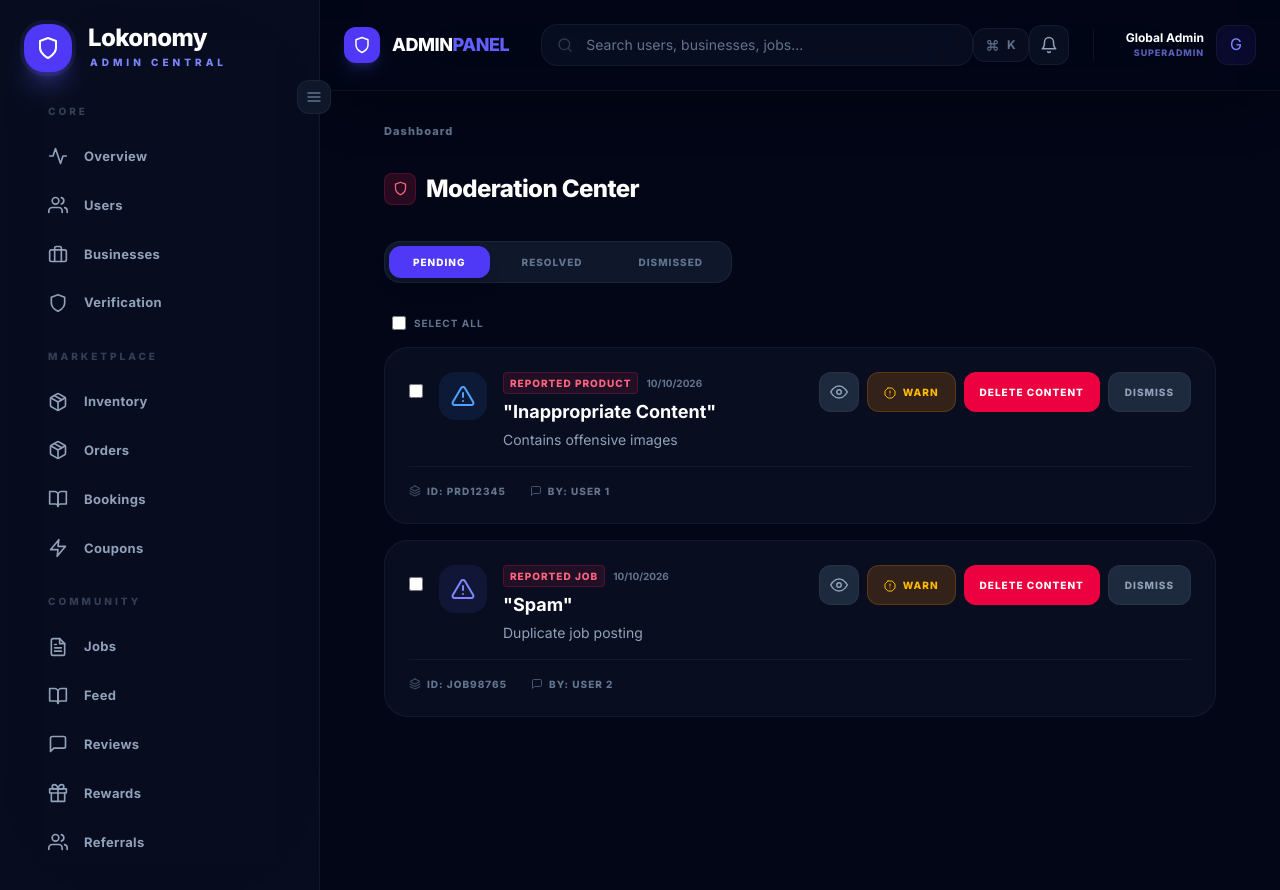
AdminModeration Page › opens and loads content preview
The width and height of the screenshot is (1280, 890).
Expected: the heading "\"Inappropriate Content\"" is shown, [503,398,716,426]
Click the button named "Preview content" next to "Inappropriate Content". click: coordinates (839, 392)
box: [819,372,859,412]
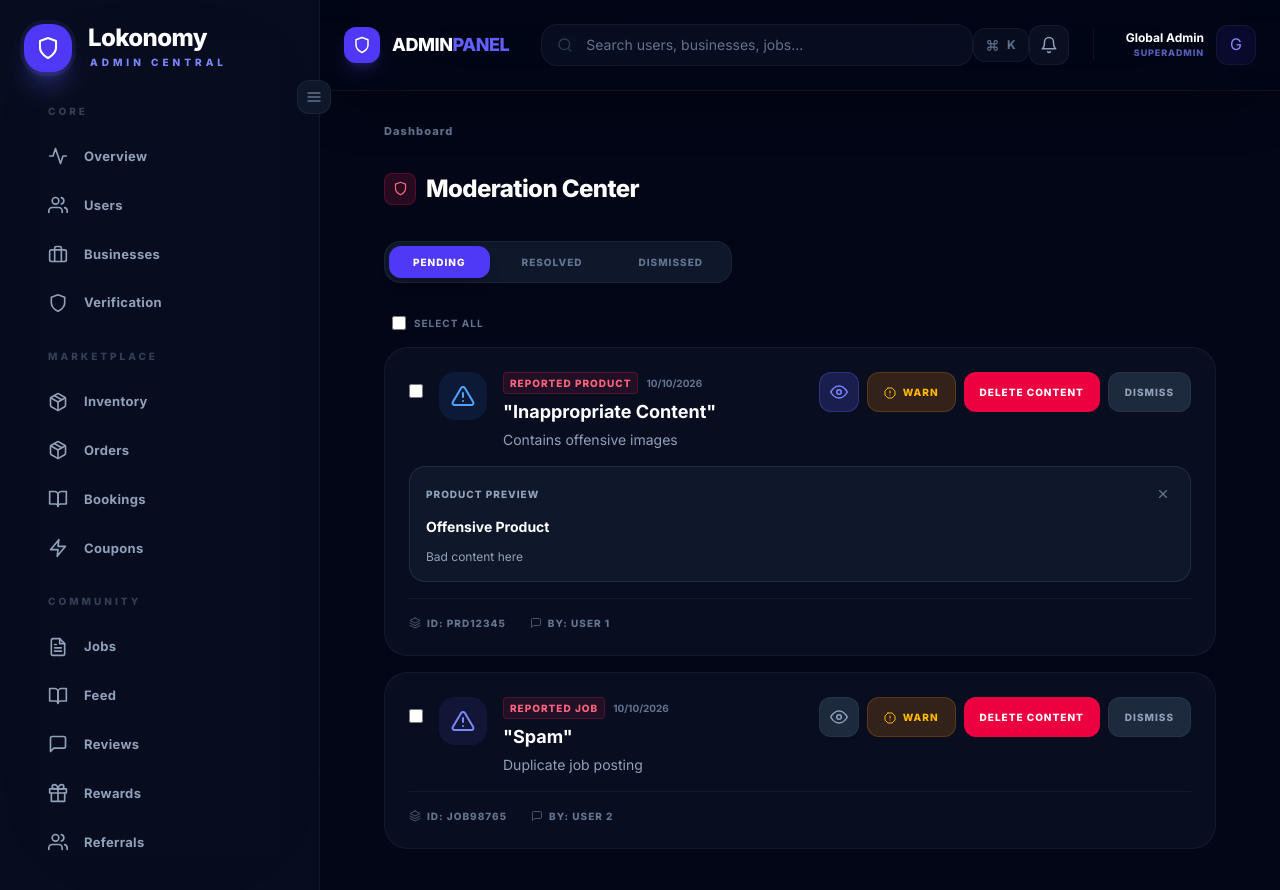
Expected: the text "product Preview" is shown, [426,486,539,502]
Expected: the heading "Offensive Product" is shown, [426,518,550,535]
Expected: the text "Bad content here" is shown, [426,549,523,564]
Close preview
Click the button named "Close preview". click: coordinates (1163, 494)
box: [1152,483,1174,505]
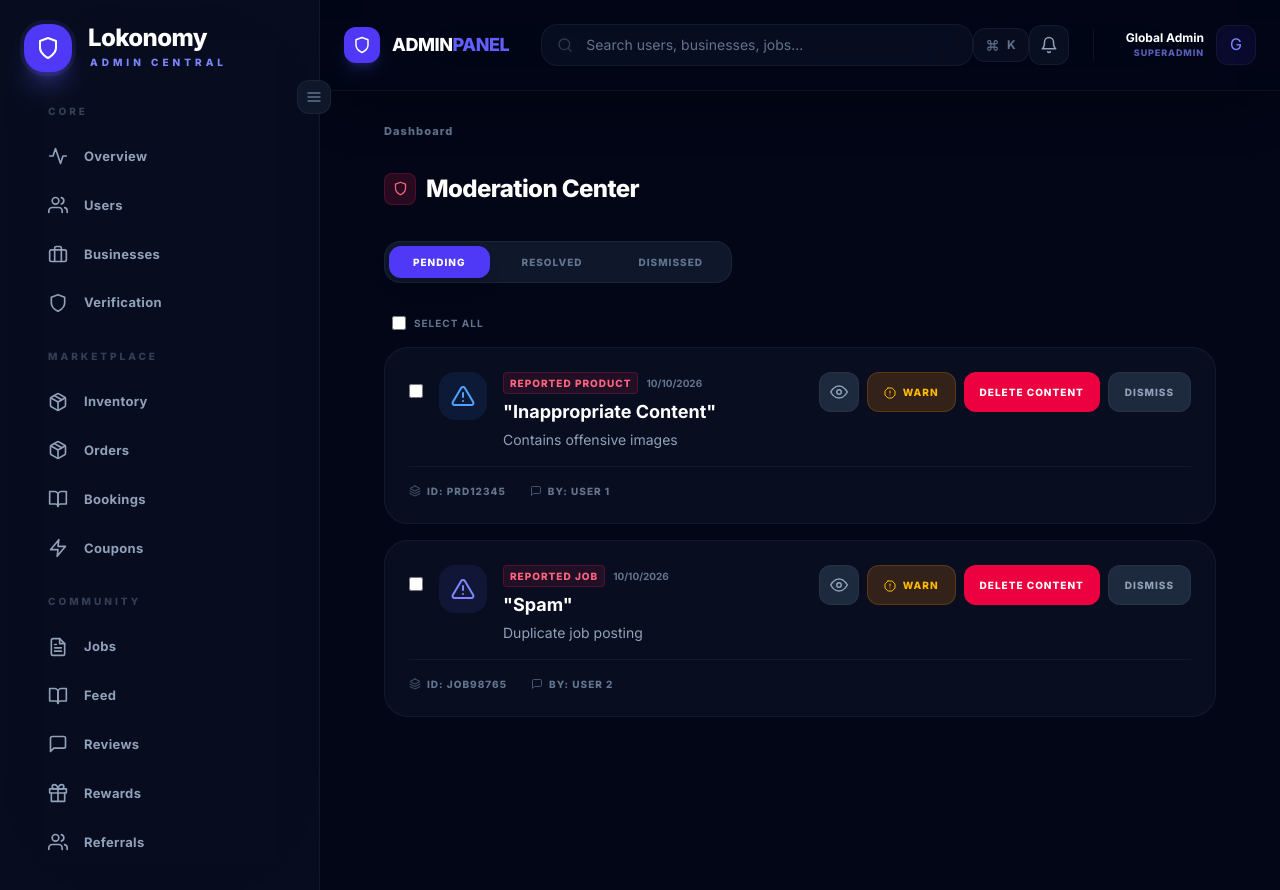
Expected: the heading "Offensive Product" is gone
